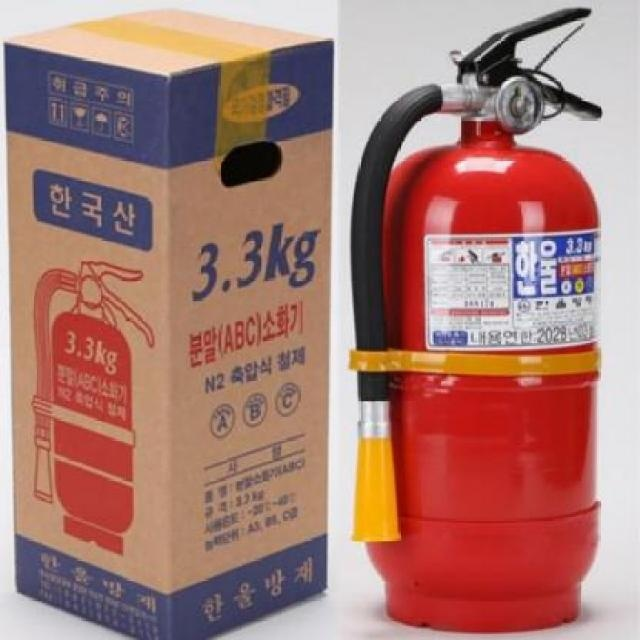fire extinguisher: (348, 6, 603, 632)
